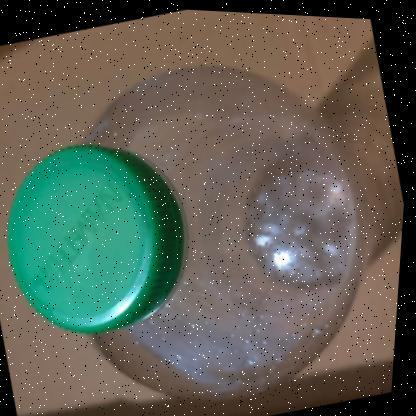bottle cap: (1, 37, 307, 416)
